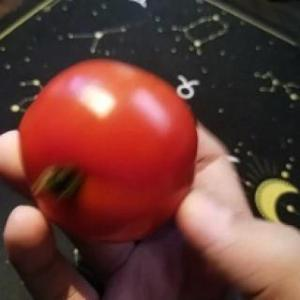tomato: (6, 55, 209, 250)
